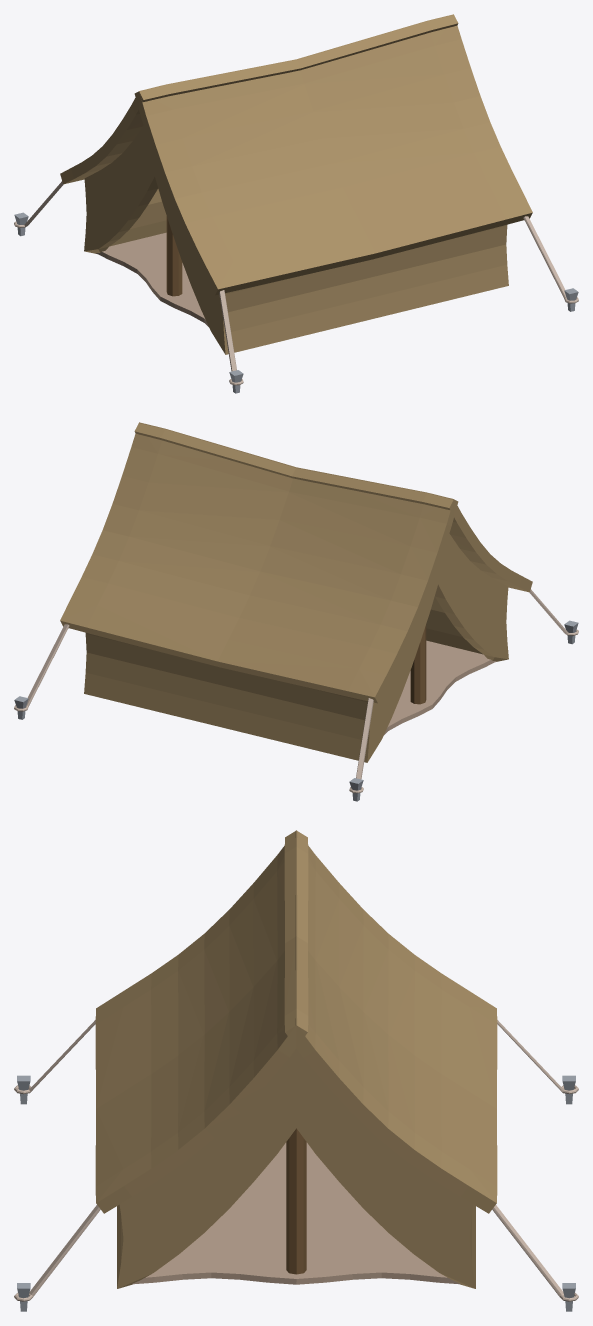
Rendered from Tent 1.fbx.
3 views of the same model, one above another, from view 1: azimuth 30°, elevation 25°; view 2: azimuth 150°, elevation 25°; view 3: azimuth 270°, elevation 25° (orthographic). The views are drawn at different scales.
Parts seen in each view (by area): view 1: Tent 1; view 2: Tent 1; view 3: Tent 1.
Boxes of the visible parts, <box> form: Tent 1: <box>14,14,578,393</box>; Tent 1: <box>14,422,578,801</box>; Tent 1: <box>14,830,578,1311</box>.
Bounding box in the file's own units: 3.82 × 2.31 × 4.23.
